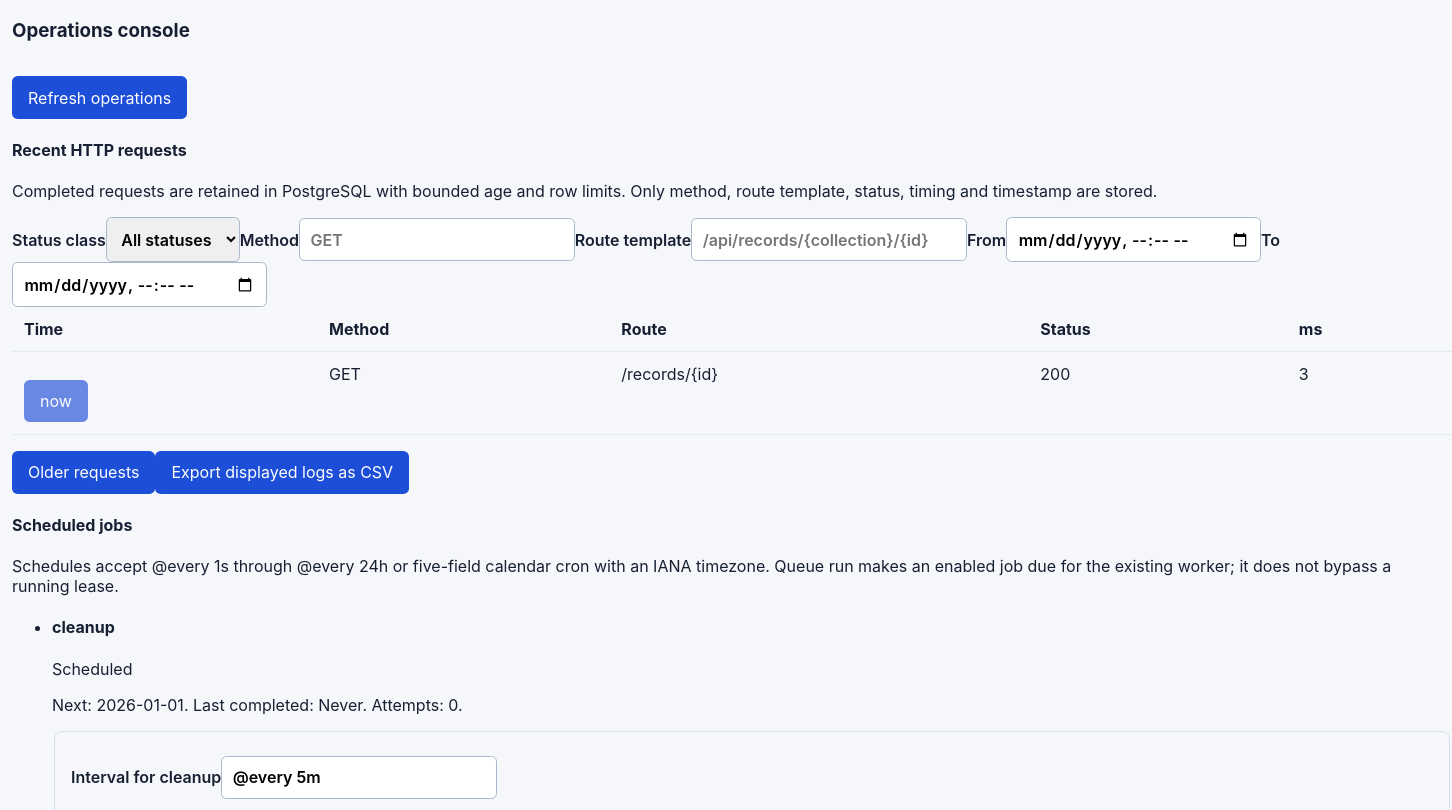
it: operations console › paginates filtered logs and queues existing enabled jobs
Expected: the text "/records/{id}" is shown, [609,351,1028,435]
Select "5xx" in the dropdown labelled "Status class" at coordinates (173, 240), box [106,217,240,262]
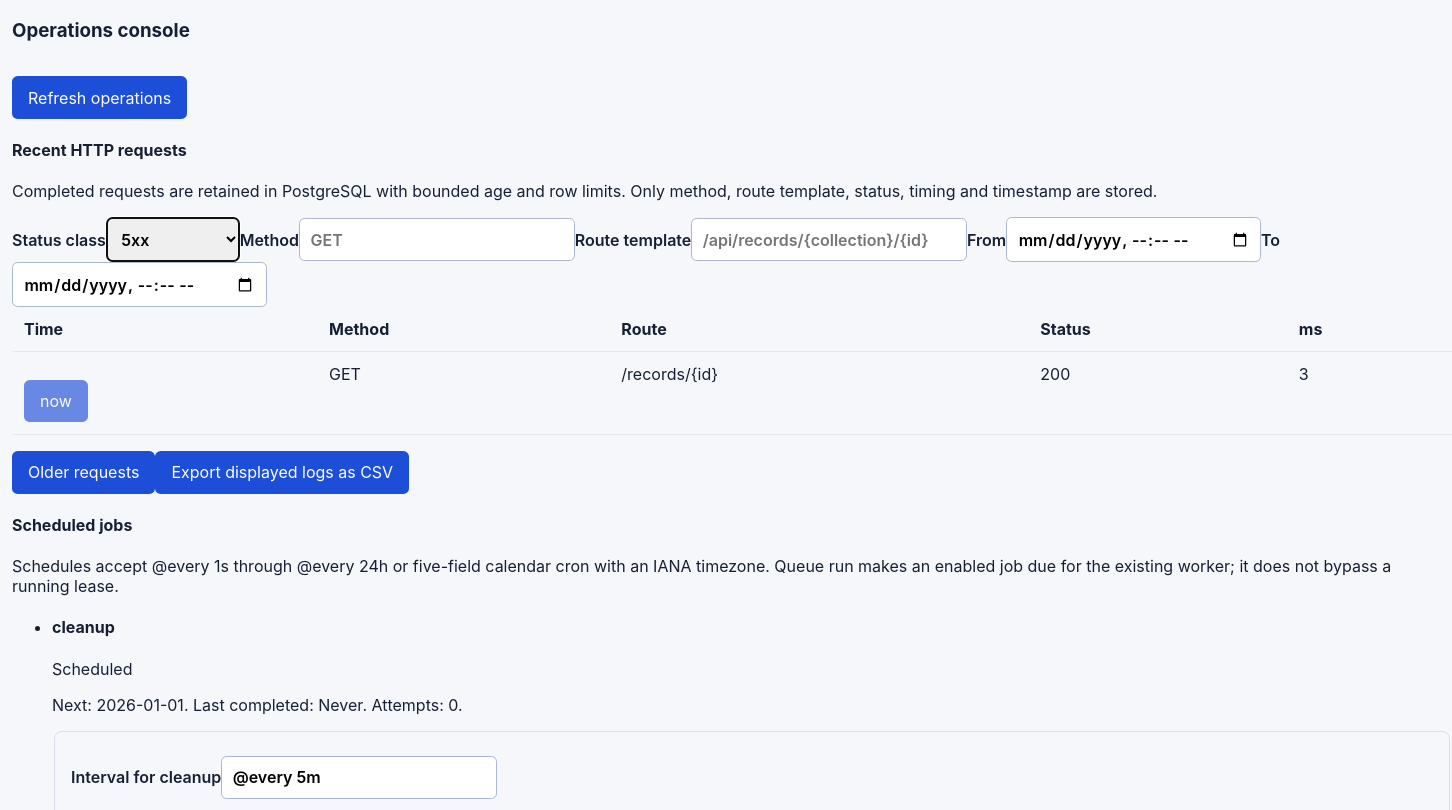
Click the button "Older requests" at coordinates (84, 472), box [12,451,155,494]
(page scrolled)
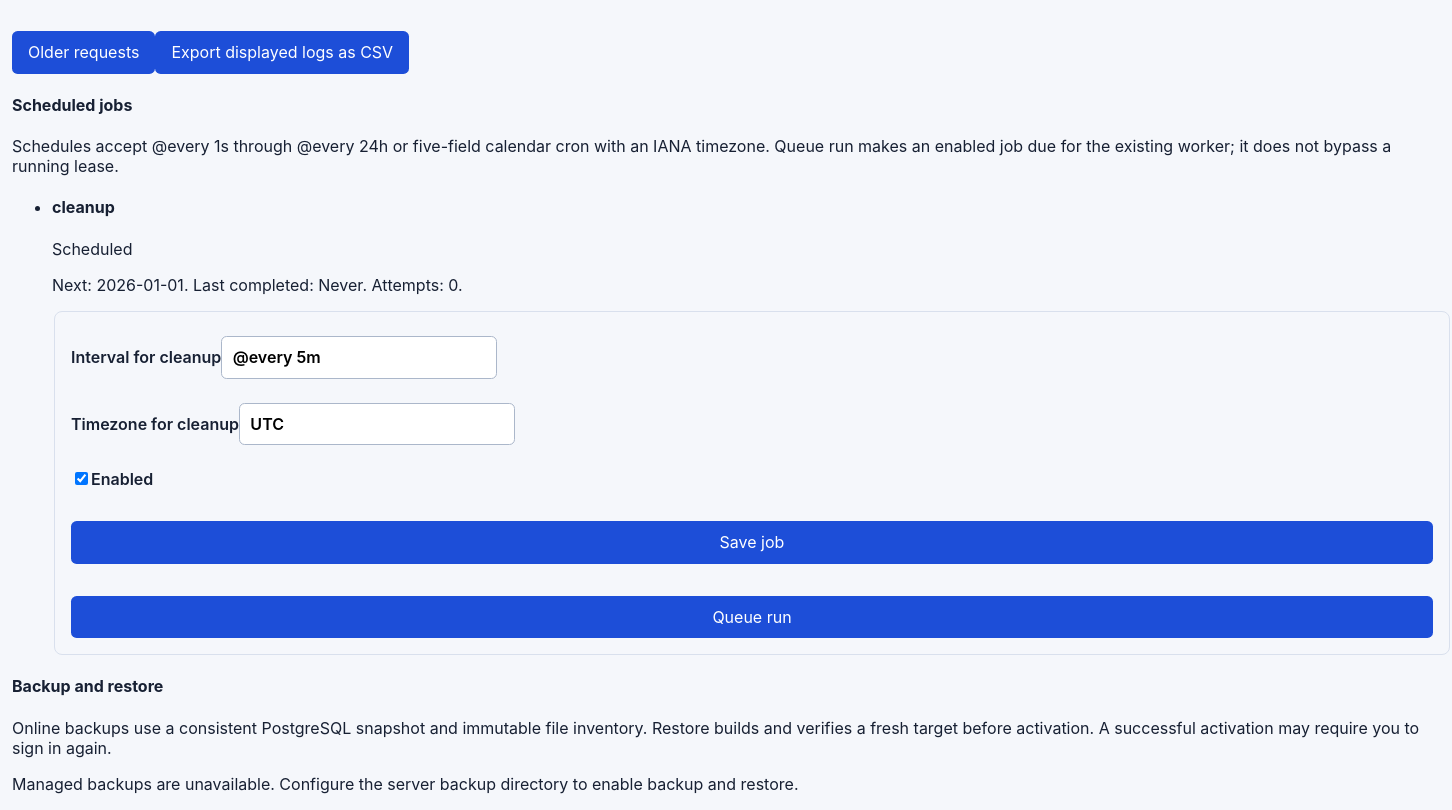
Click the button "Queue run" at coordinates (752, 617), box [71,596,1433,638]
(page scrolled)
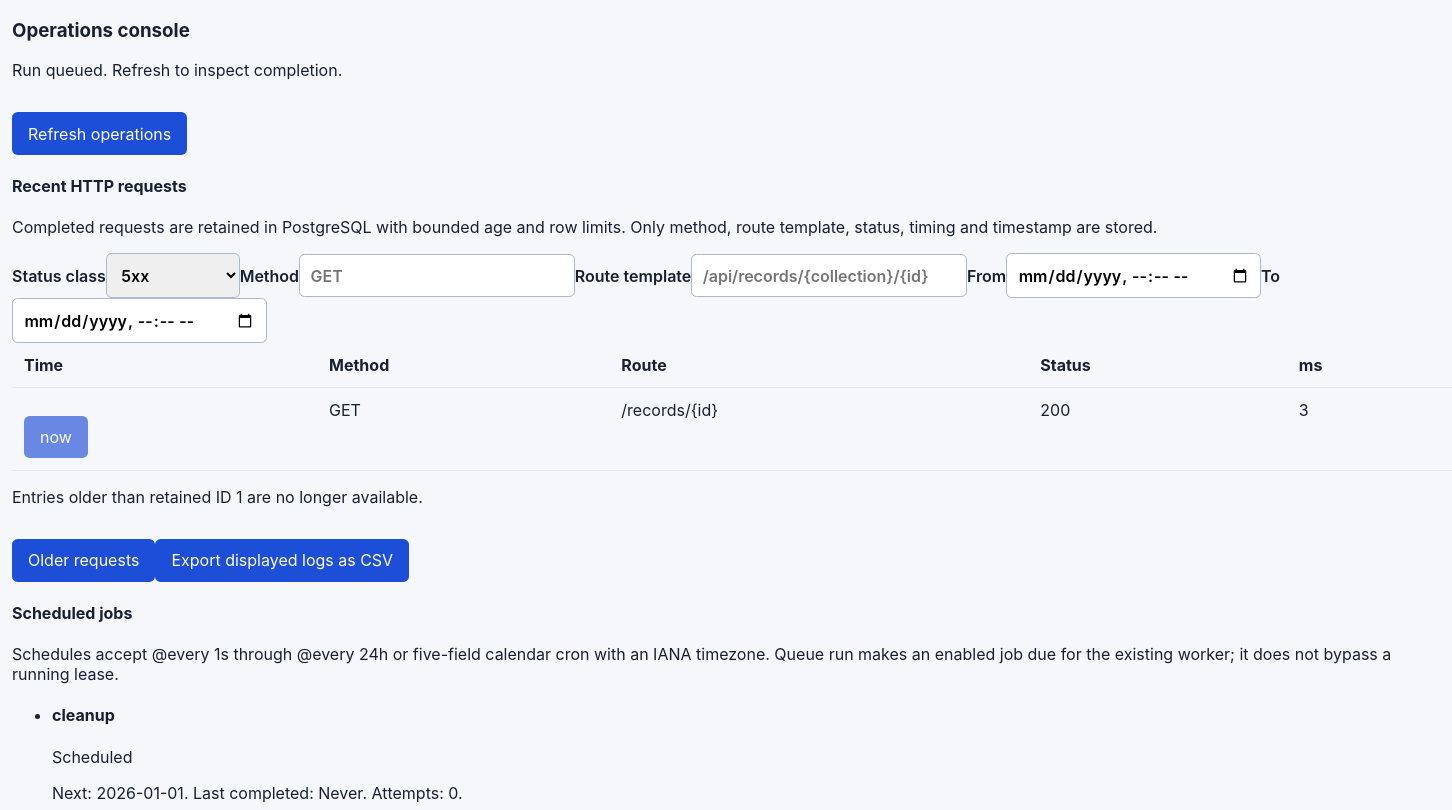
Expected: the text "Run queued. Refresh to inspect completion." is shown, [12,60,342,80]
